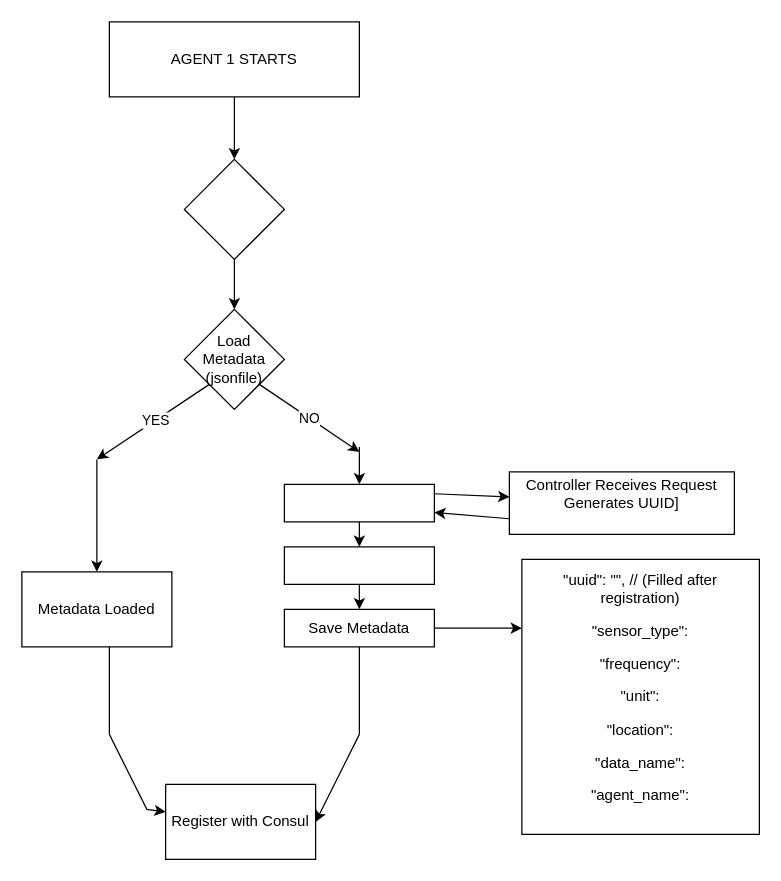
Image size: 781x881. Some labels were removed from this diagram. Here are the shapes that lost their labels. From the top down, the centre of each, then its label:
At pixel 233 208: "Sleep 5s".
At pixel 358 502: "Register with controller".
At pixel 358 565: "UUID received".
